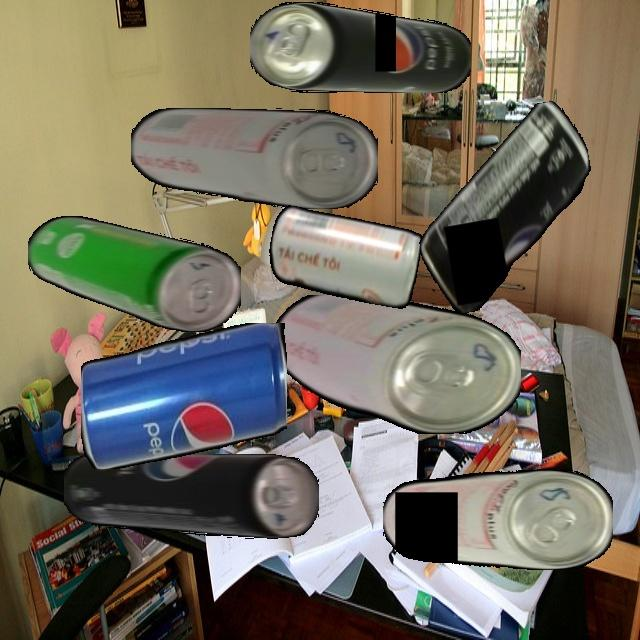debris: (400, 97, 611, 318), (273, 295, 521, 434), (80, 322, 287, 469), (130, 108, 378, 209), (27, 216, 241, 332), (382, 469, 613, 570), (63, 454, 319, 539), (250, 1, 471, 93), (264, 204, 424, 310)
